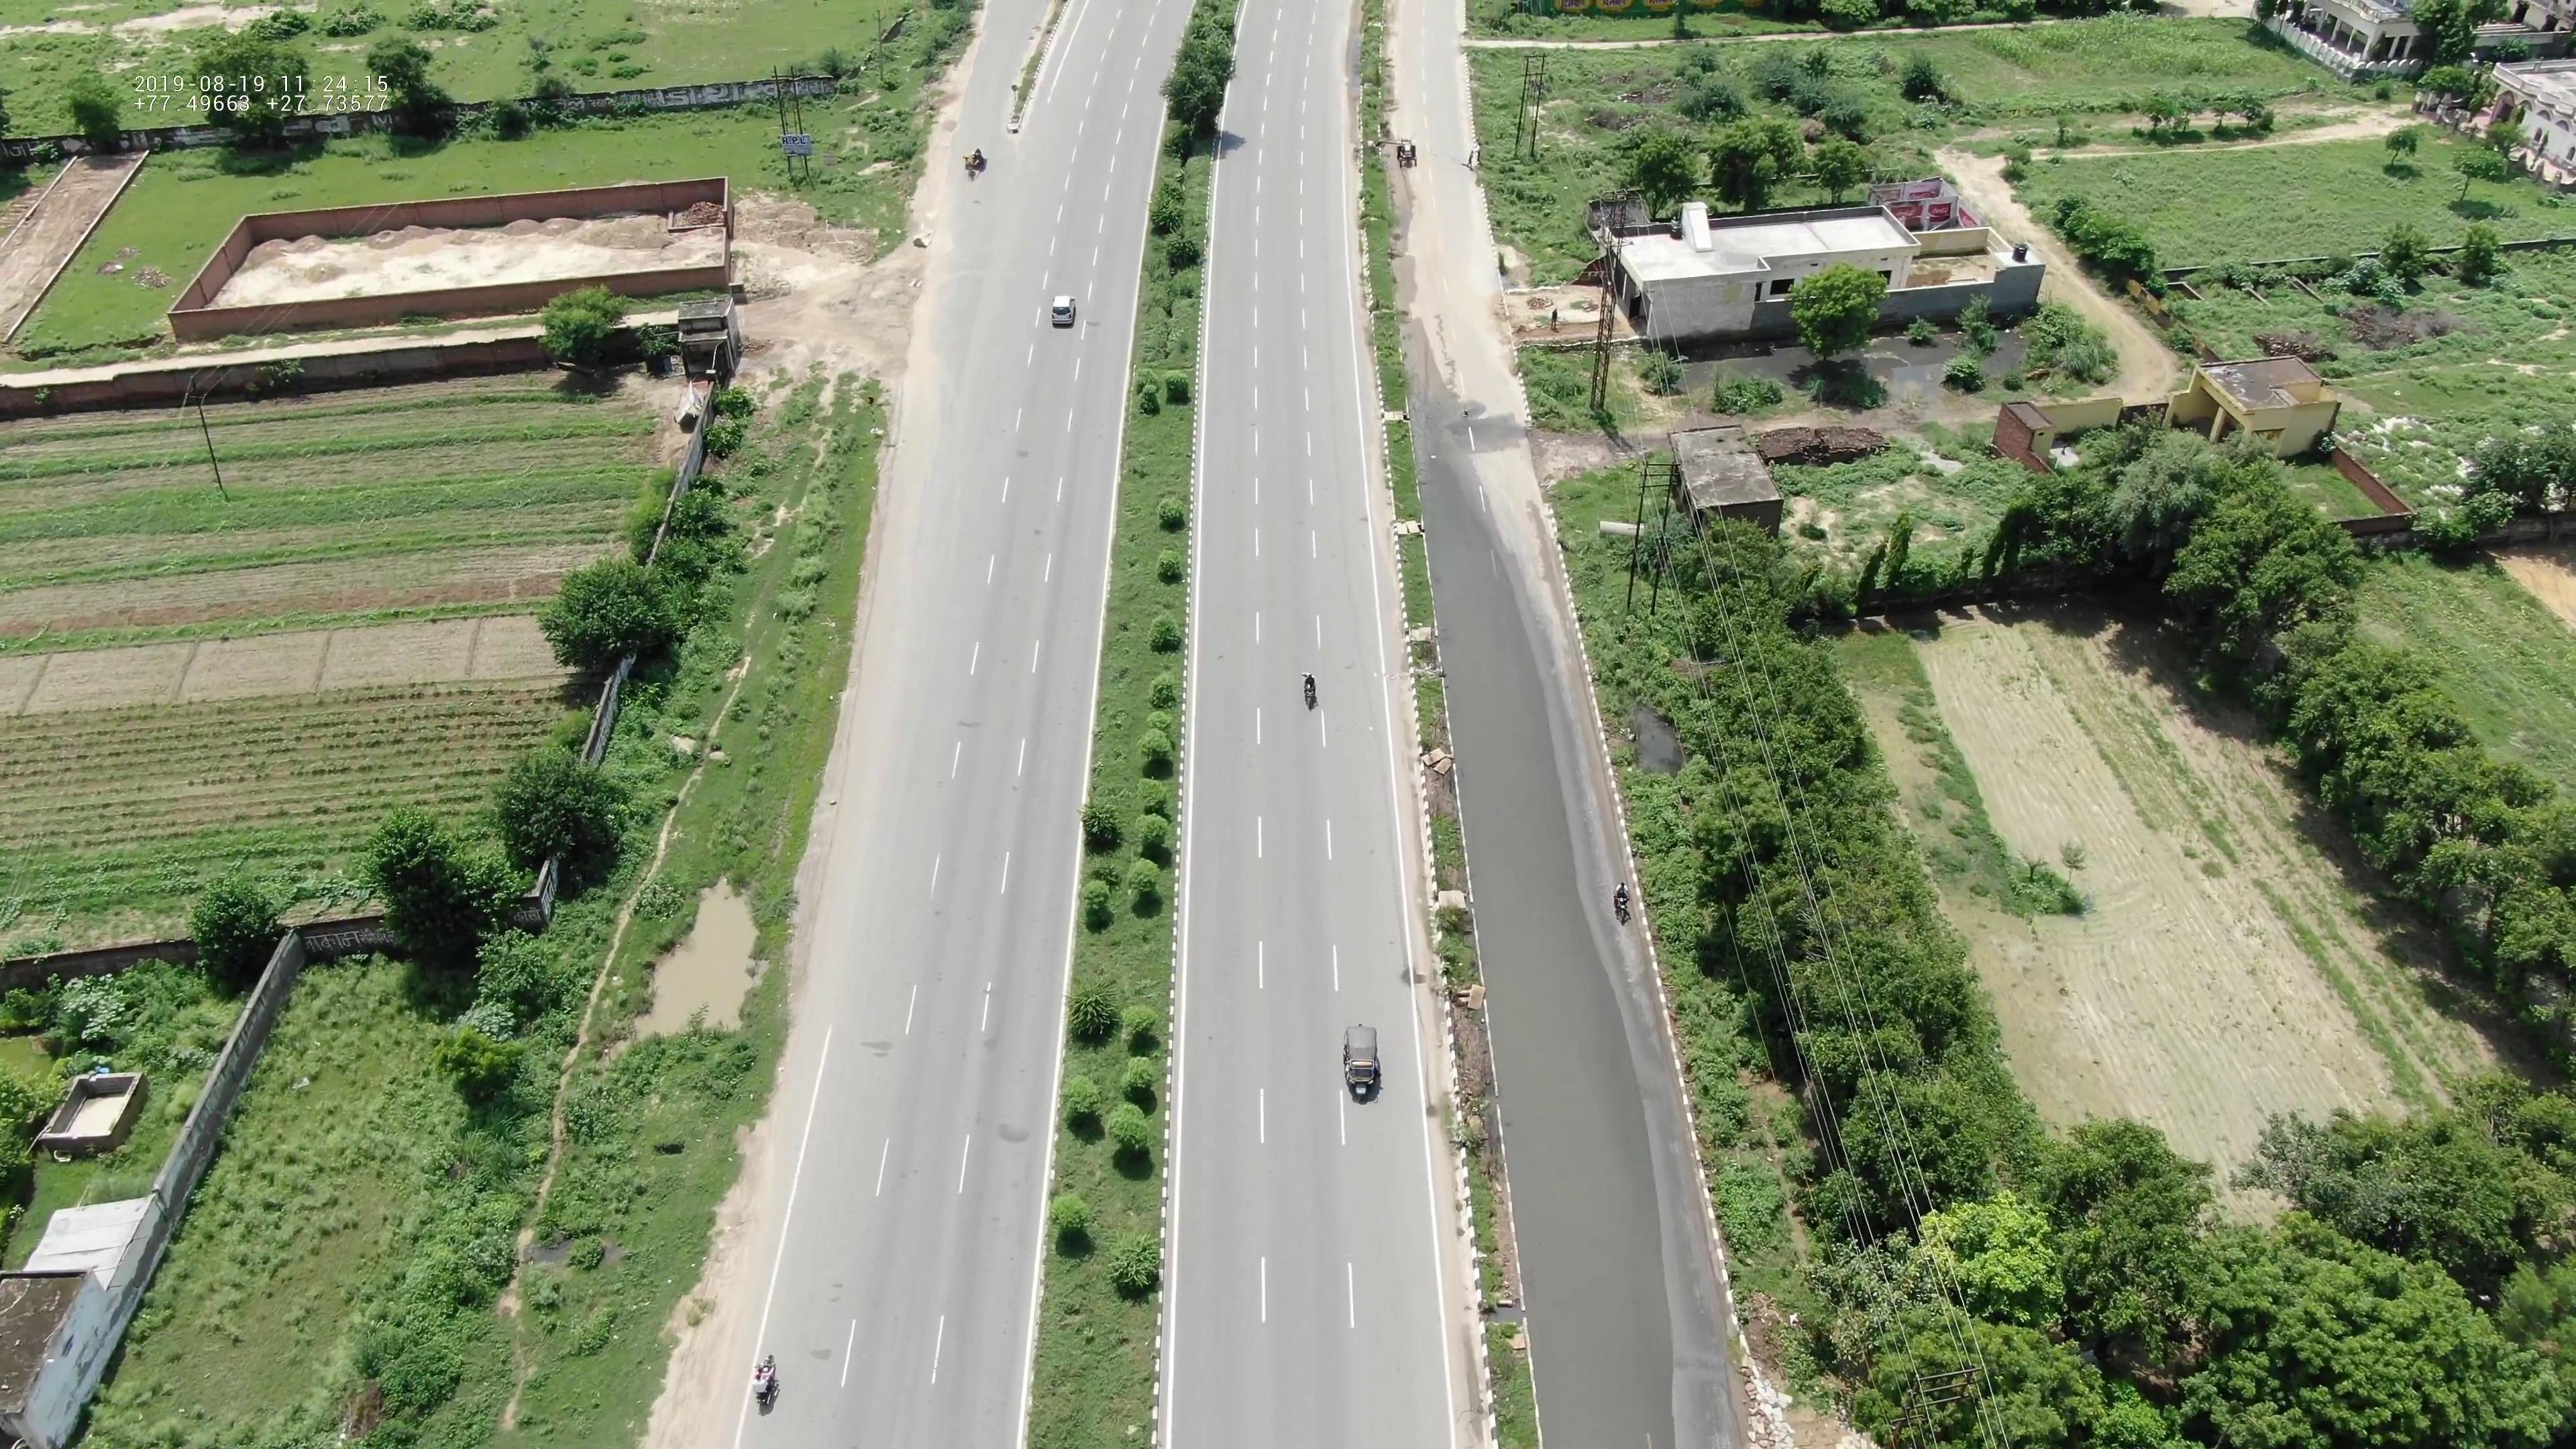Waterlogging: (1447, 517, 1654, 1396)
